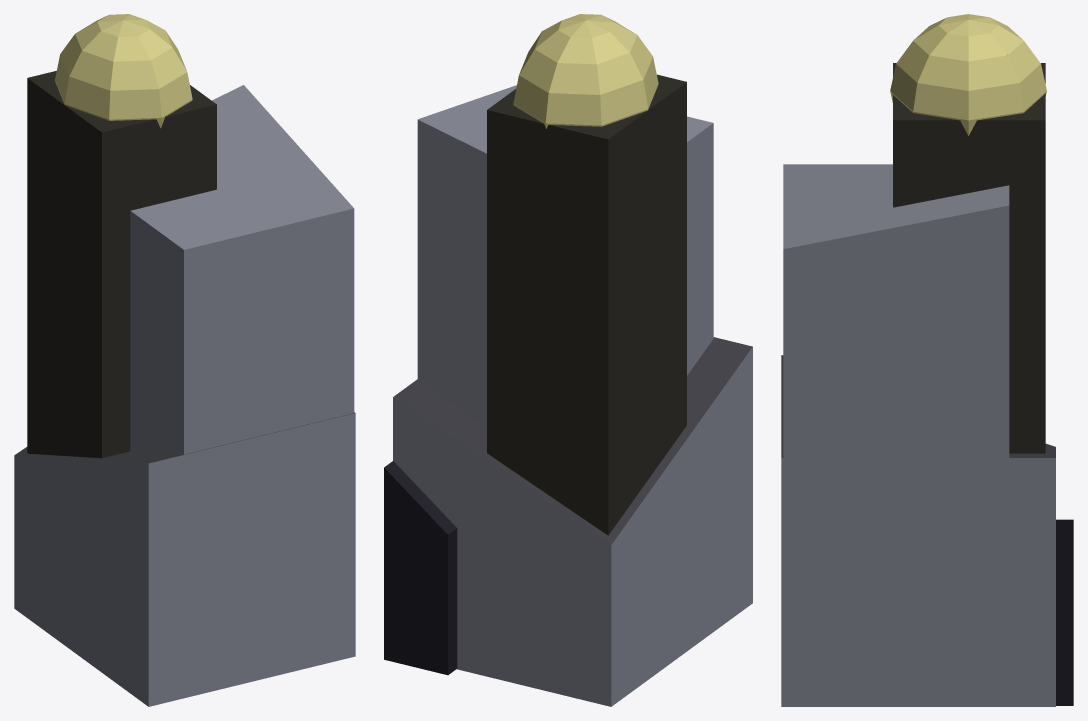
The model's file is DoorLeft.fbx.
The picture shows the model from 3 angles, left to right: view 1: azimuth 30°, elevation 25°; view 2: azimuth 150°, elevation 25°; view 3: azimuth 270°, elevation 25°; orthographic projection. The views are drawn at different scales.
Parts seen in each view (by area): view 1: DoorRight; view 2: DoorRight; view 3: DoorRight.
Part boxes in pixels (box(x1,y1,x2,y2)): DoorRight: box(14, 14, 355, 706); DoorRight: box(384, 14, 752, 706); DoorRight: box(781, 14, 1073, 706).
Bounding box in the file's own units: 178 × 496 × 213.
